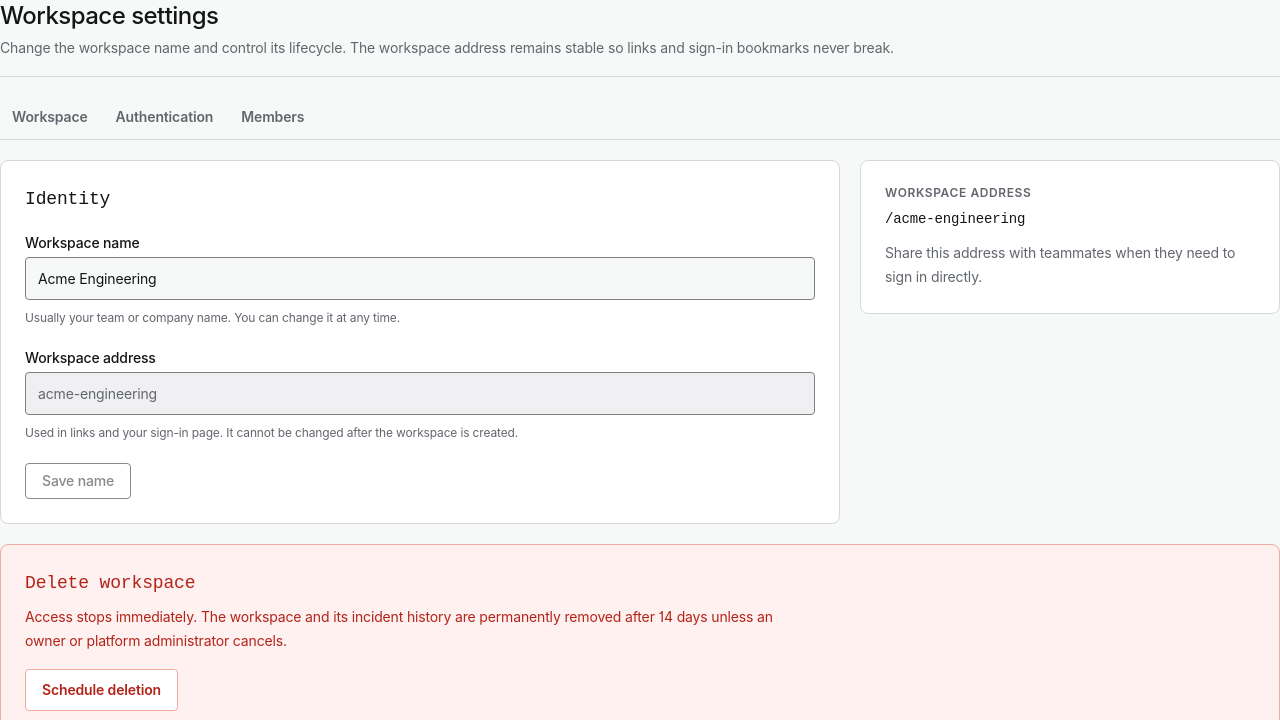
Test: workspace settings screens › explains the immutable address and requires typed confirmation before deletion
Expected: the field showing "Acme Engineering" is shown, [25,257,815,300]
Expected: the text "cannot be changed after the workspace is created" is shown, [25,425,518,440]
Click the button "Schedule deletion" at [102, 690], box [25,669,178,711]
(page scrolled)
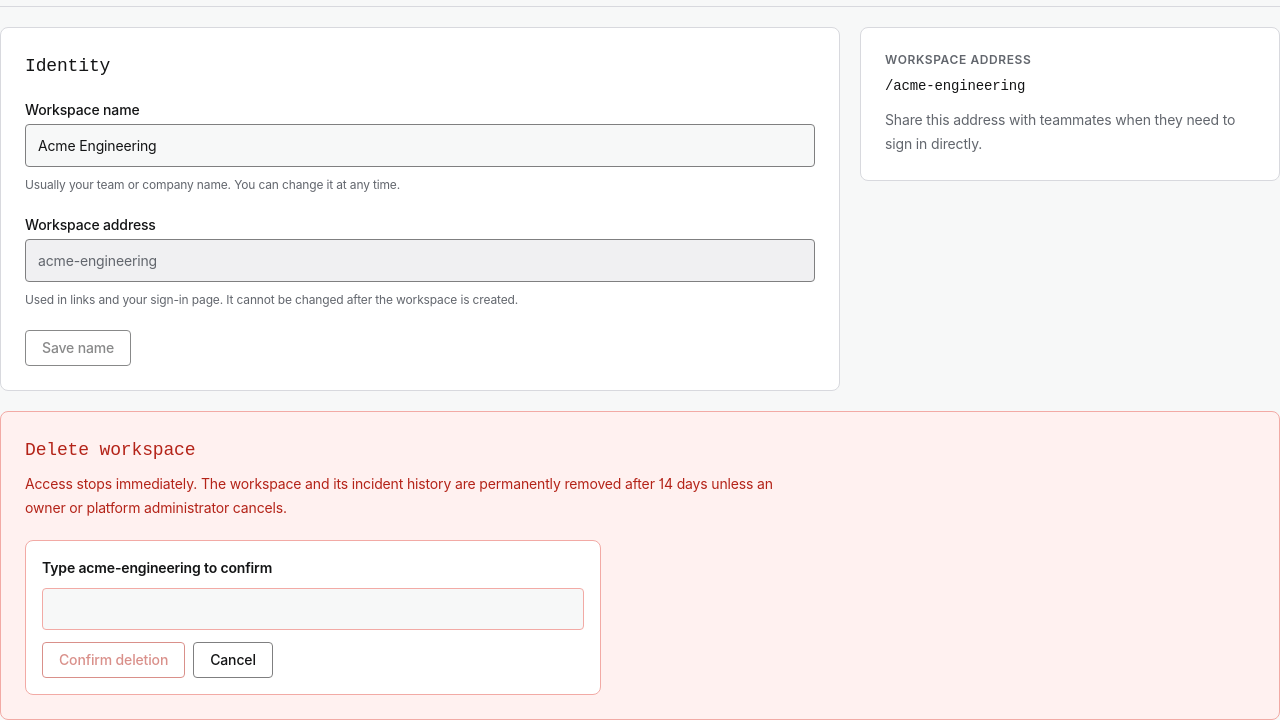
Expected: the button "Confirm deletion" is disabled, [42,642,185,678]
Type "acme-engineering" into the field labelled "Type acme-engineering to confirm" at [313, 608], box [42,588,584,630]
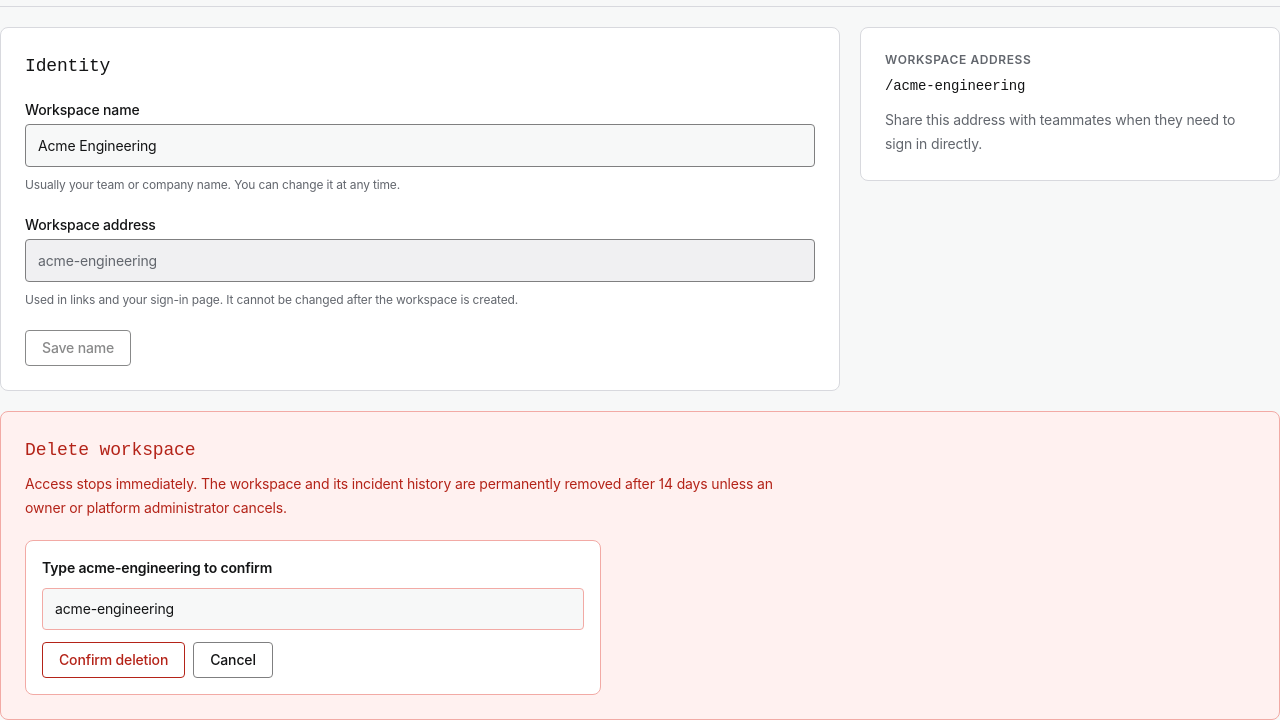
Expected: the button "Confirm deletion" is enabled, [42,642,185,678]
